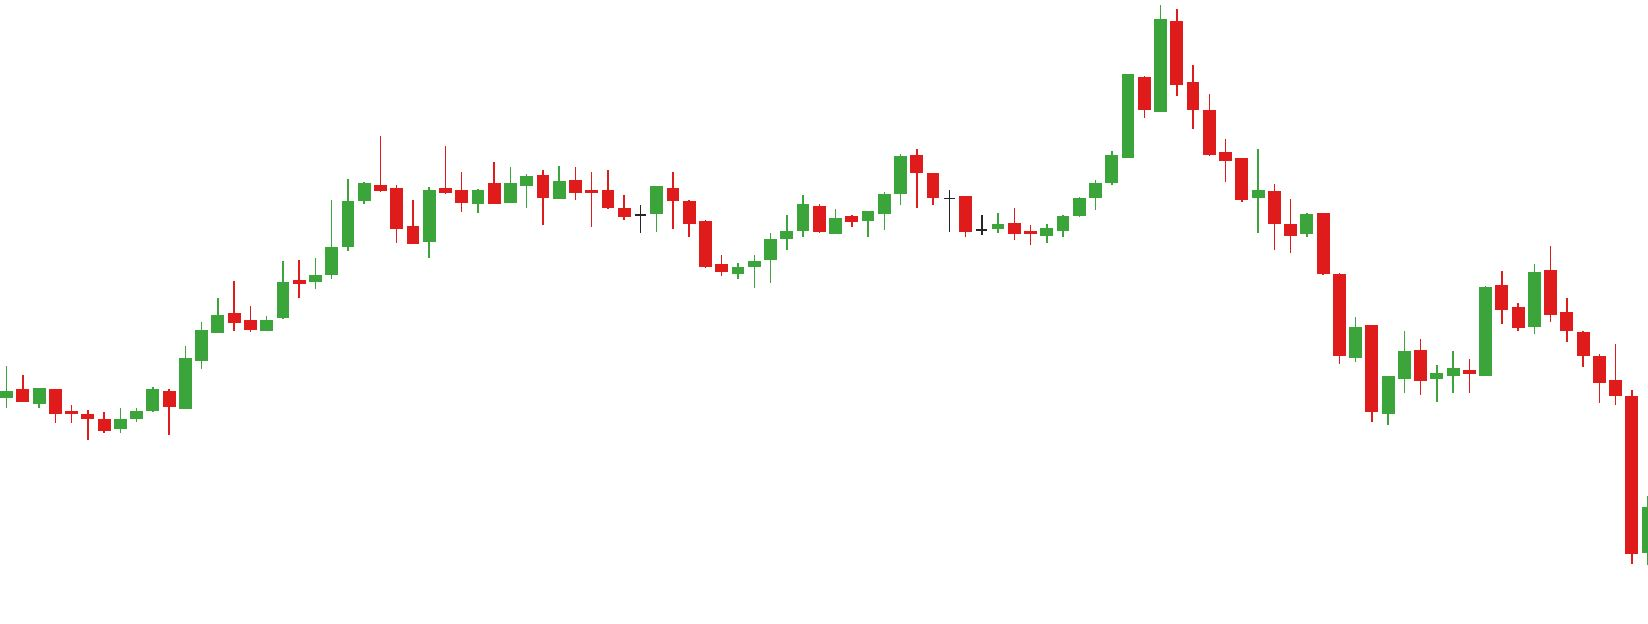sell: (1476, 250, 1560, 348)
